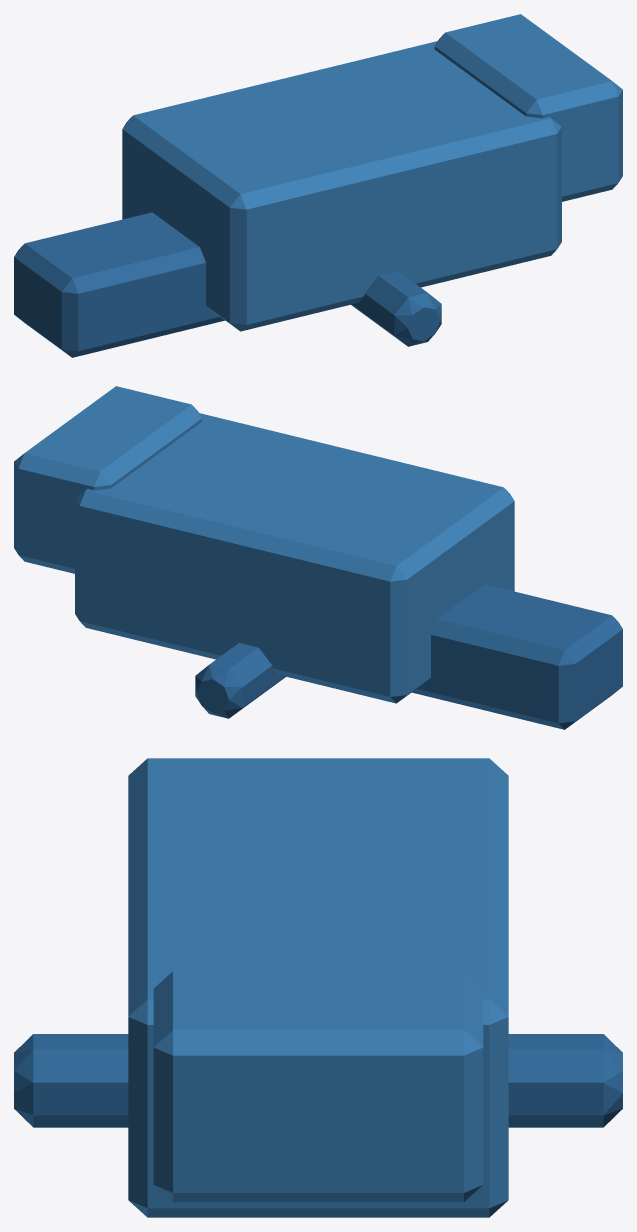
File: cannon_carriage.glb
The picture shows the model from 3 angles, top to bottom: view 1: azimuth 30°, elevation 25°; view 2: azimuth 150°, elevation 25°; view 3: azimuth 270°, elevation 25°; orthographic projection. The views are drawn at different scales.
Visible parts, largest first — view 1: cannon_carriage; view 2: cannon_carriage; view 3: cannon_carriage.
Part boxes in pixels (<box>): cannon_carriage: <box>14,14,622,357</box>; cannon_carriage: <box>14,386,622,729</box>; cannon_carriage: <box>14,758,622,1217</box>.
Bounding box in the file's own units: 0.39 × 0.1196 × 0.24.
